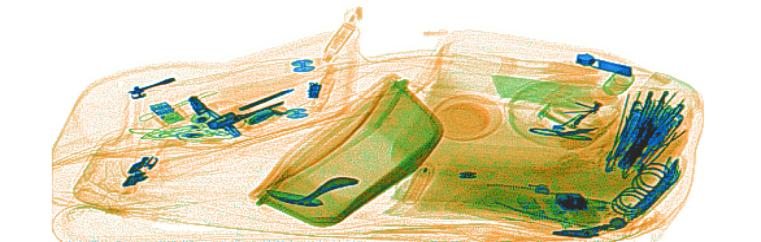USBFlashDisk: (148, 102, 186, 127)
scissors: (530, 124, 599, 146)
